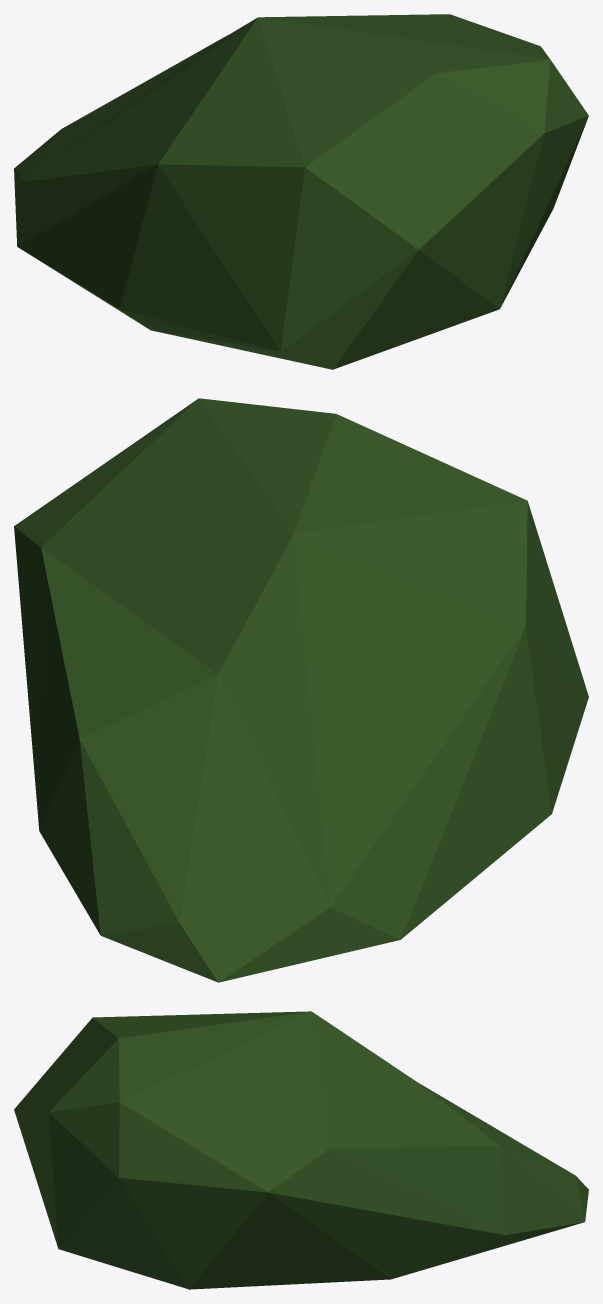
Rendered from SM_bush_06.fbx.
3 views of the same model, one above another, from view 1: azimuth 30°, elevation 25°; view 2: azimuth 150°, elevation 25°; view 3: azimuth 270°, elevation 25° (orthographic). The views are drawn at different scales.
Parts seen in each view (by area): view 1: Object130; view 2: Object130; view 3: Object130.
Boxes of the visible parts, x1=… form: Object130: x1=14, y1=14, x2=588, y2=369; Object130: x1=14, y1=398, x2=588, y2=982; Object130: x1=14, y1=1011, x2=588, y2=1289.
Size of the model in its own units: 99.27 by 56.76 by 126.
